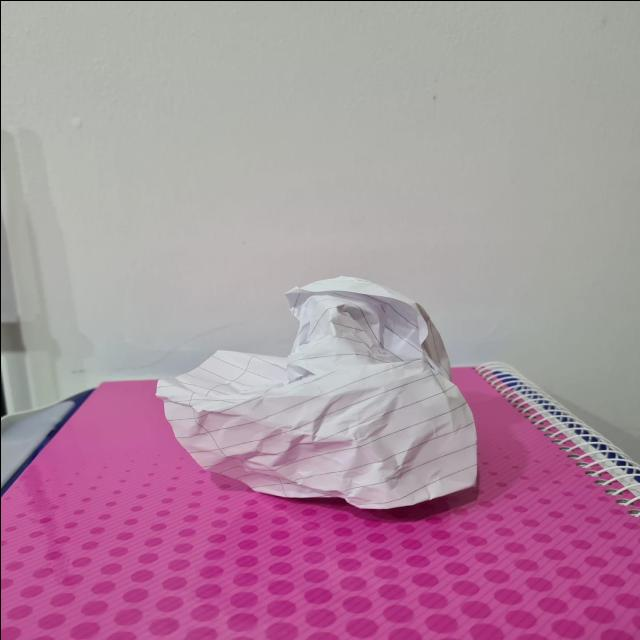kertas: (168, 288, 460, 486)
